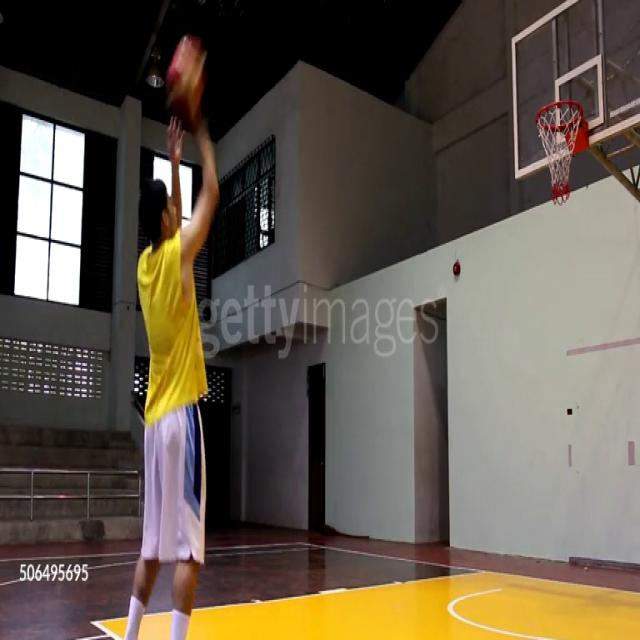ball: (163, 34, 210, 132)
